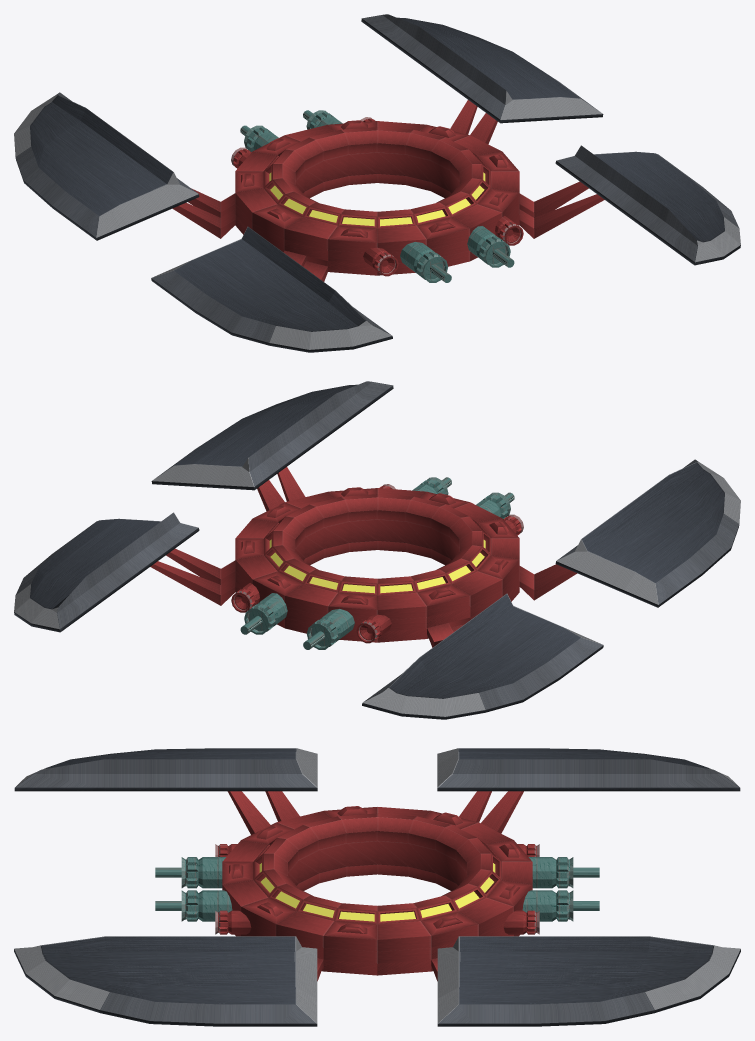
File: ship31_Remodel.FBX
The picture shows the model from 3 angles, top to bottom: view 1: azimuth 30°, elevation 25°; view 2: azimuth 150°, elevation 25°; view 3: azimuth 270°, elevation 25°; orthographic projection. The views are drawn at different scales.
Visible parts, largest first — view 1: Hull, Object001, L_Wings, R_Wing, Object002, Gun3, Thruster (×2), Gun4, Gun2; view 2: Hull, L_Wings, Object001, Object002, R_Wing, Gun2, Thruster (×2), Gun, Gun3; view 3: Hull, R_Wing, Object002, Object001, L_Wings, Gun4, Gun, Thruster (×2), Gun3, Gun2.
Boxes of the visible parts, x1=… form: Hull: x1=172, y1=100, x2=604, y2=281; Object001: x1=151, y1=226, x2=392, y2=352; L_Wings: x1=14, y1=92, x2=199, y2=240; R_Wing: x1=361, y1=14, x2=603, y2=123; Object002: x1=555, y1=145, x2=740, y2=265; Gun3: x1=400, y1=242, x2=451, y2=282; Thruster (×2): x1=363, y1=216, x2=523, y2=276; Gun4: x1=467, y1=226, x2=514, y2=267; Gun2: x1=240, y1=125, x2=278, y2=151; Hull: x1=150, y1=467, x2=576, y2=647; L_Wings: x1=362, y1=593, x2=603, y2=719; Object001: x1=555, y1=459, x2=740, y2=607; Object002: x1=151, y1=381, x2=393, y2=490; R_Wing: x1=14, y1=512, x2=199, y2=632; Gun2: x1=303, y1=609, x2=354, y2=649; Thruster (×2): x1=231, y1=583, x2=391, y2=643; Gun: x1=240, y1=593, x2=287, y2=634; Gun3: x1=476, y1=492, x2=514, y2=518; Hull: x1=222, y1=791, x2=532, y2=981; R_Wing: x1=437, y1=936, x2=740, y2=1026; Object002: x1=14, y1=936, x2=317, y2=1026; Object001: x1=14, y1=748, x2=317, y2=791; L_Wings: x1=437, y1=748, x2=740, y2=791; Gun4: x1=155, y1=890, x2=232, y2=921; Gun: x1=522, y1=890, x2=599, y2=921; Thruster (×2): x1=215, y1=910, x2=539, y2=934; Gun3: x1=155, y1=857, x2=225, y2=888; Gun2: x1=529, y1=857, x2=599, y2=888.
Size of the model in its own units: 32.41 by 4.27 by 36.89.
Materials: 4 (4 with a texture image).
